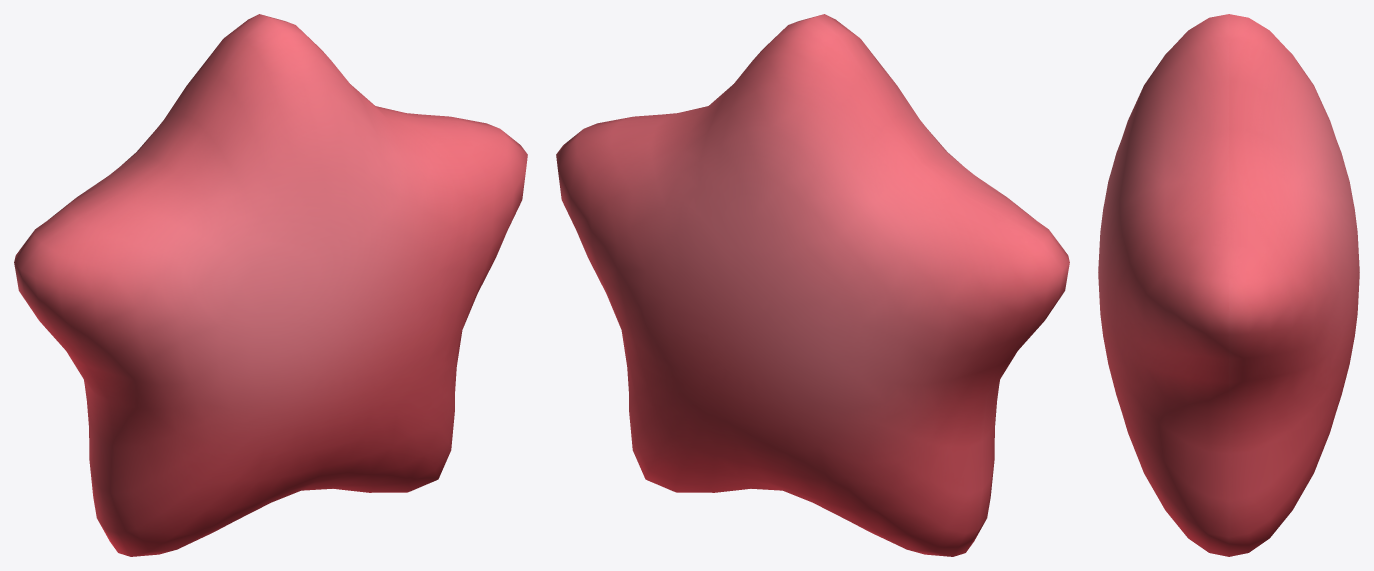
File: ngoi sao nhoi bong.fbx
The picture shows the model from 3 angles, left to right: view 1: azimuth 30°, elevation 25°; view 2: azimuth 150°, elevation 25°; view 3: azimuth 270°, elevation 25°; orthographic projection. The views are drawn at different scales.
Parts seen in each view (by area): view 1: ngoi_sao_nhoi_bong; view 2: ngoi_sao_nhoi_bong; view 3: ngoi_sao_nhoi_bong.
Boxes of the visible parts, box(x1,y1,x2,y2) form: ngoi_sao_nhoi_bong: box(14, 14, 527, 556); ngoi_sao_nhoi_bong: box(556, 14, 1069, 556); ngoi_sao_nhoi_bong: box(1098, 14, 1359, 556).
Size of the model in its own units: 84.05 by 80.82 by 40.24.
Materials: 1 (1 with a texture image).
